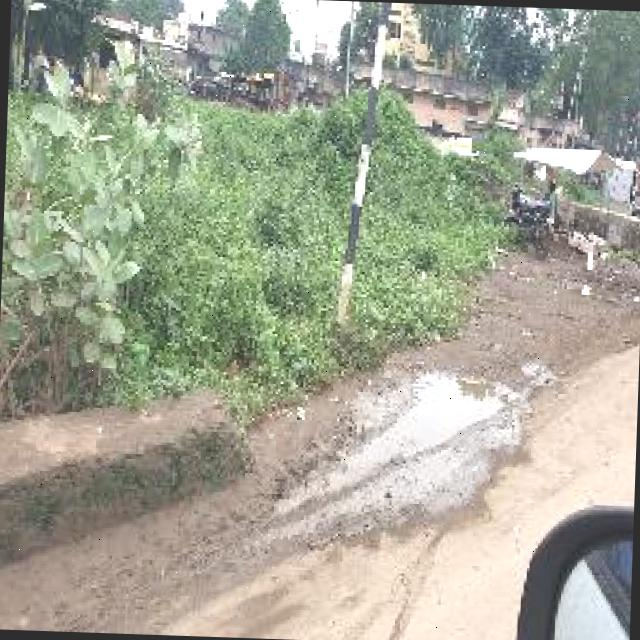stagnation: (229, 356, 574, 558)
